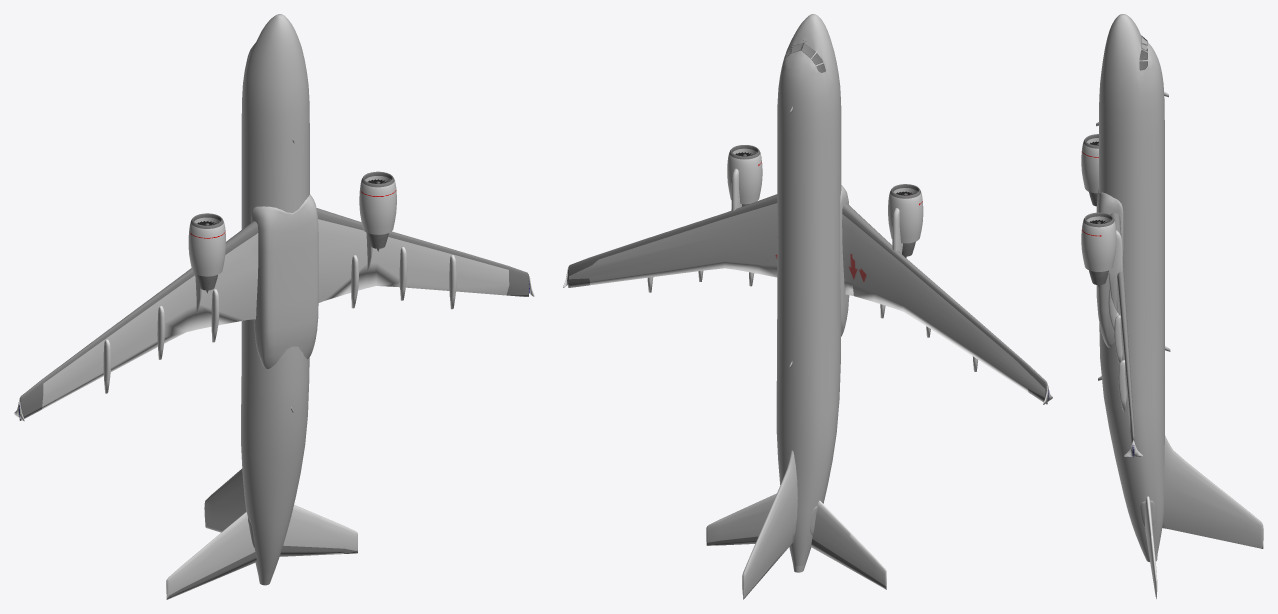
3 renders of one model, left to right at view 1: azimuth 30°, elevation 25°; view 2: azimuth 150°, elevation 25°; view 3: azimuth 270°, elevation 25°, orthographic. The views are drawn at different scales.
Parts seen in each view (by area): view 1: a320_wings_parts; view 2: a320_wings_parts; view 3: a320_wings_parts.
Boxes of the visible parts, bbox=[...] form: a320_wings_parts: bbox=[14, 14, 534, 599]; a320_wings_parts: bbox=[563, 14, 1052, 599]; a320_wings_parts: bbox=[1081, 14, 1263, 598].
Size of the model in its own units: 34568 by 37503 by 11354.
